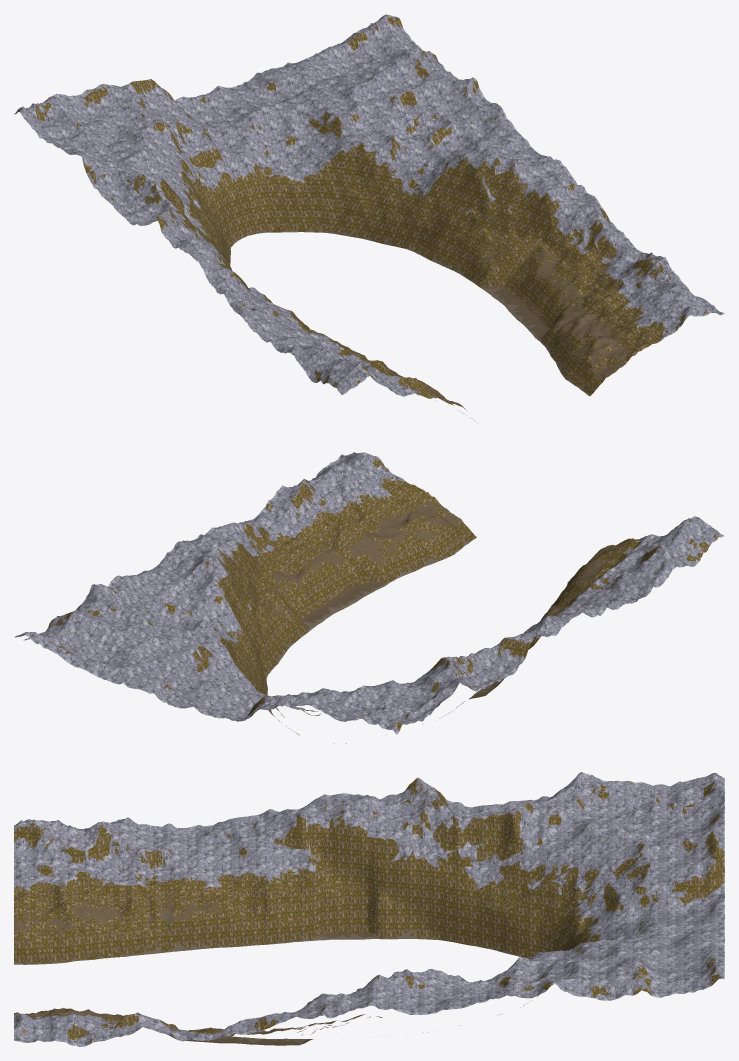
File: fjord-terrain-hd.glb
3 renders of one model, top to bottom at view 1: azimuth 30°, elevation 25°; view 2: azimuth 150°, elevation 25°; view 3: azimuth 270°, elevation 25°, orthographic. The views are drawn at different scales.
Visible parts, largest first — view 1: terrain; view 2: terrain; view 3: terrain.
Part boxes in pixels (box(x1,y1,x2,y2)): terrain: box(14, 14, 724, 421); terrain: box(14, 452, 724, 743); terrain: box(14, 772, 724, 1046).
Bounding box in the file's own units: 1121 × 317 × 1660.
Materials: 4 (4 with a texture image).
